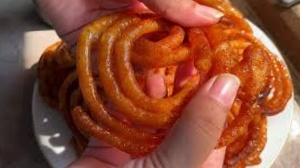pani_walalu: (68, 1, 295, 167)
